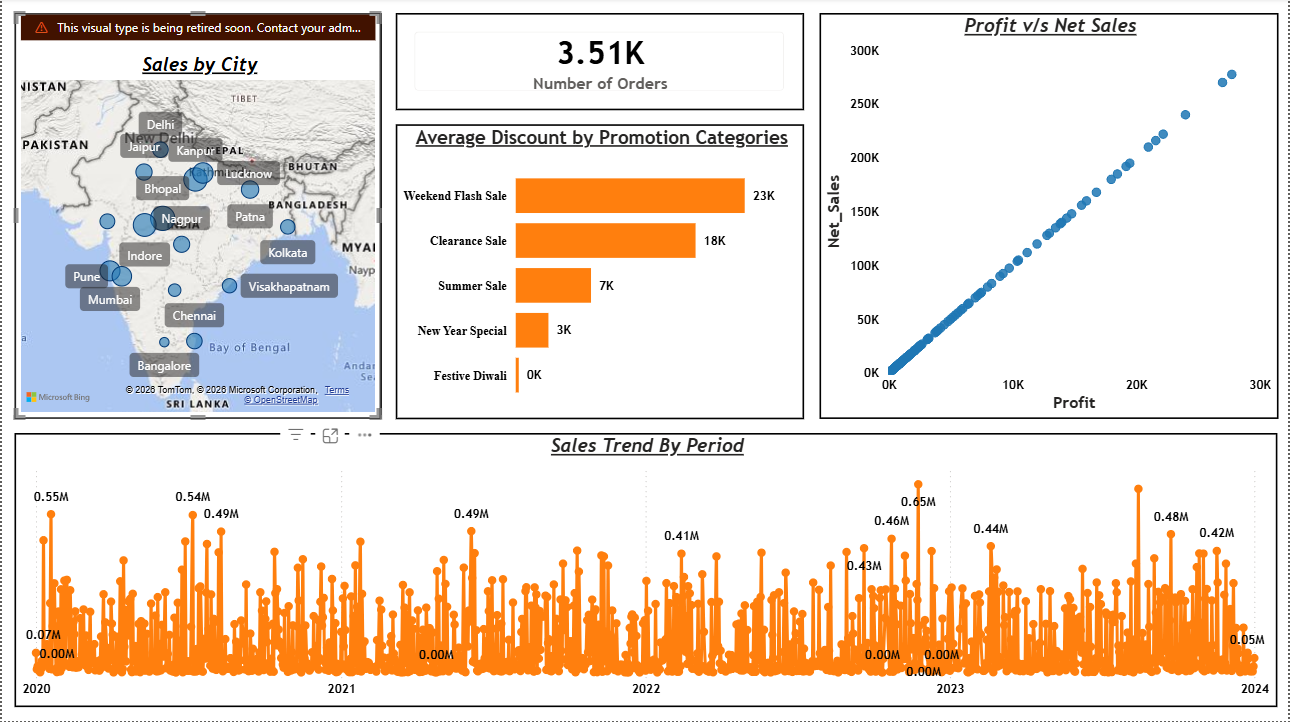

The page's visual inventory and layout, read from the dashboard file:
{"tool":"powerbi","page":{"name":"Page 2","canvas":[1280,720],"ordinal":1},"visuals":[{"type":"lineChart","title":"Sales Trend By Period","fields":{"Y":["Sum(Fact Table.Net_Sales)"],"Category":["Fact Table.Date (dd/mm/yyyy).Variation.Date Hierarchy.Year"]},"box":[11.9,432.7,1256.4,273.1],"z":0},{"type":"scatterChart","title":"Profit  v/s Net Sales","fields":{"X":["Fact Table.Profit"],"Y":["Fact Table.Net_Sales"]},"box":[813.2,14.9,456.6,404.4],"z":1000},{"type":"barChart","title":"Average Discount by Promotion Categories","fields":{"Y":["Avg(Fact Table.Discount_Value)"],"Category":["Dim Promotion.Promotion Name"]},"box":[391.8,125.6,406.8,293.6],"z":2000},{"type":"map","title":"Sales by City","fields":{"Category":["Dim Customers.City"],"Size":["Sum(Fact Table.Net_Sales)"]},"box":[11.9,14.9,365.6,404.4],"z":3000},{"type":"cardVisual","fields":{"Data":["Count(Fact Table.Order Id)"]},"box":[391.8,14.9,406.8,97],"z":4000}]}

Visuals, with their boxes in screenshot pixels (x1, y1, x2, y2), scaled from the page's 1280x720 canvas onto the 1290x722 screenshot:
"Sales Trend By Period" lineChart: 12, 434, 1278, 708
"Profit  v/s Net Sales" scatterChart: 820, 15, 1280, 420
"Average Discount by Promotion Categories" barChart: 395, 126, 805, 420
"Sales by City" map: 12, 15, 380, 420
cardVisual - Count(Fact Table.Order Id): 395, 15, 805, 112
